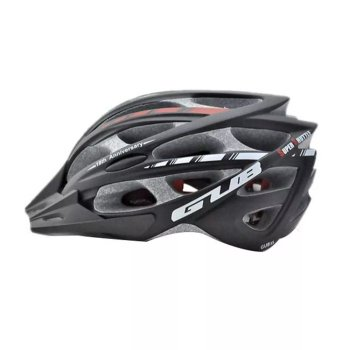with_helmet: (24, 86, 320, 255)
